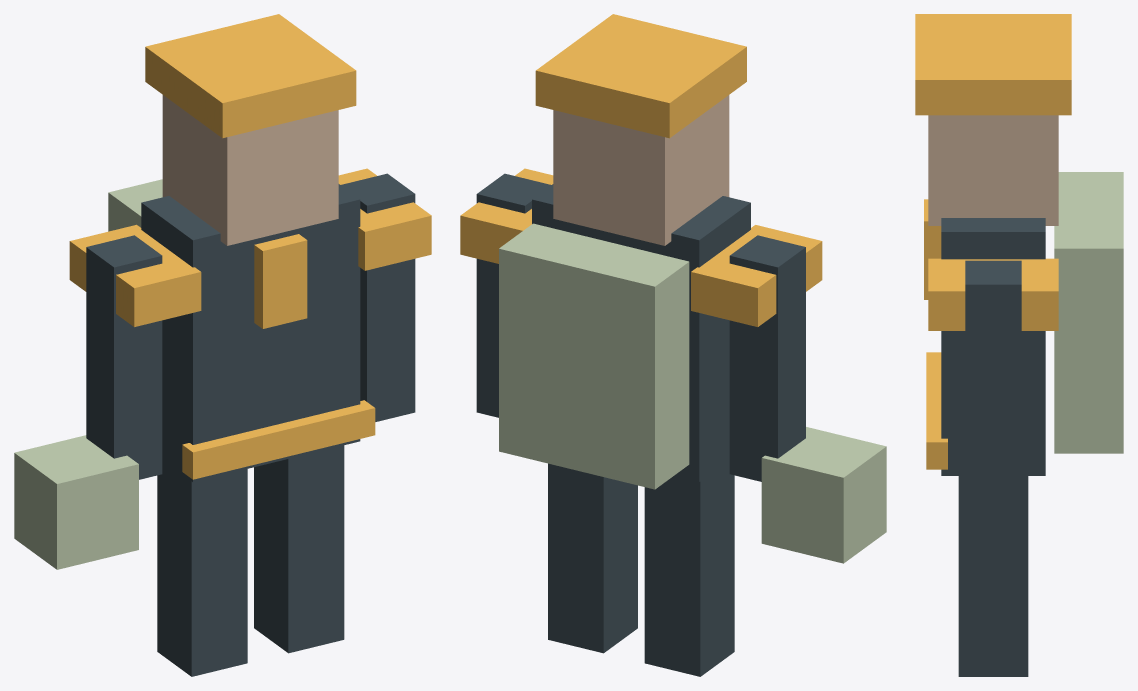
The model's file is 04_lio_voxmere_guide_at_decon.glb.
3 renders of one model, left to right at view 1: azimuth 30°, elevation 25°; view 2: azimuth 150°, elevation 25°; view 3: azimuth 270°, elevation 25°, orthographic.
Visible parts, largest first — view 1: Lio Voxmere, Guide at Decon; view 2: Lio Voxmere, Guide at Decon; view 3: Lio Voxmere, Guide at Decon.
Part boxes in pixels (box(x1,y1,x2,y2)): Lio Voxmere, Guide at Decon: box(14, 14, 431, 676); Lio Voxmere, Guide at Decon: box(460, 14, 886, 676); Lio Voxmere, Guide at Decon: box(915, 14, 1123, 676).
Bounding box in the file's own units: 0.9215 × 1.4 × 0.4446.
